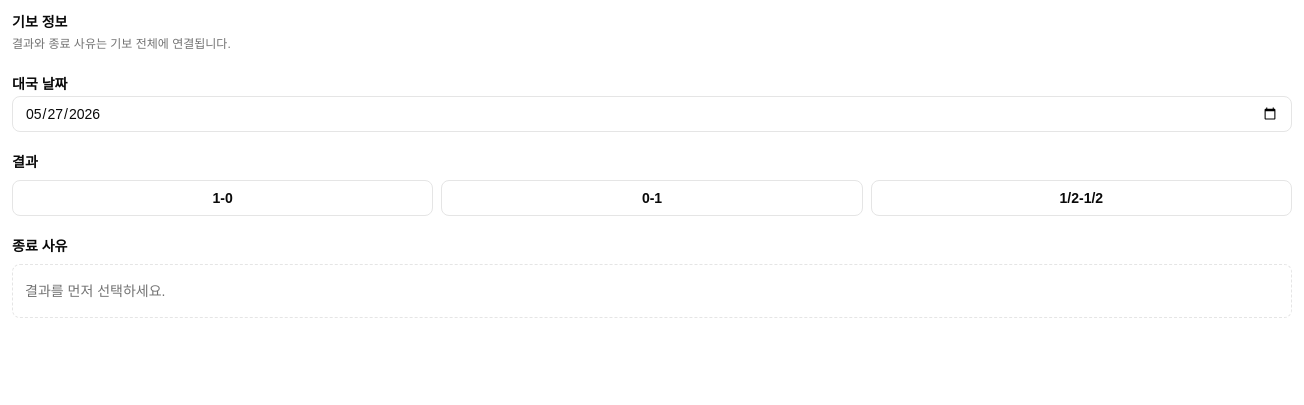
GameMetadataEditor › 무승부 결과를 선택하면 무승부 종료 사유를 자세히 보여줘야 한다
Click the button "1/2-1/2".
click(1081, 198)  # box [871,180,1292,216]
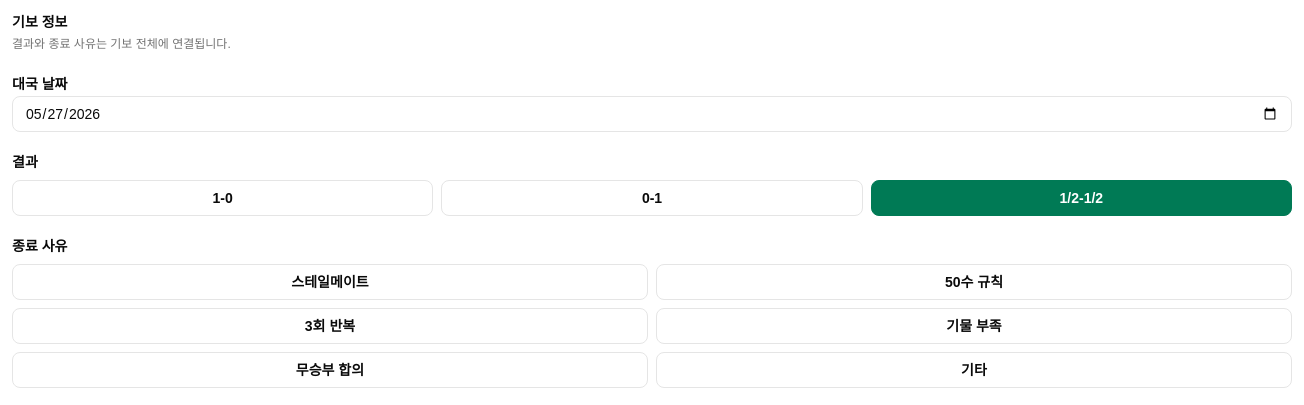
Check: the button "스테일메이트" is shown, box [12,264,648,300]
Check: the button "50수 규칙" is shown, box [656,264,1292,300]
Check: the button "3회 반복" is shown, box [12,308,648,344]
